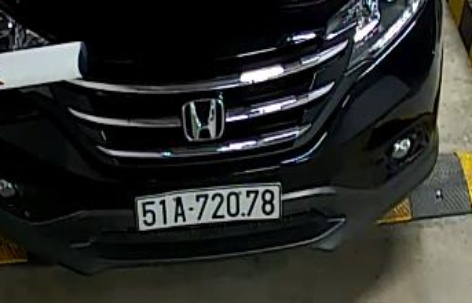plate: (135, 178, 290, 228)
